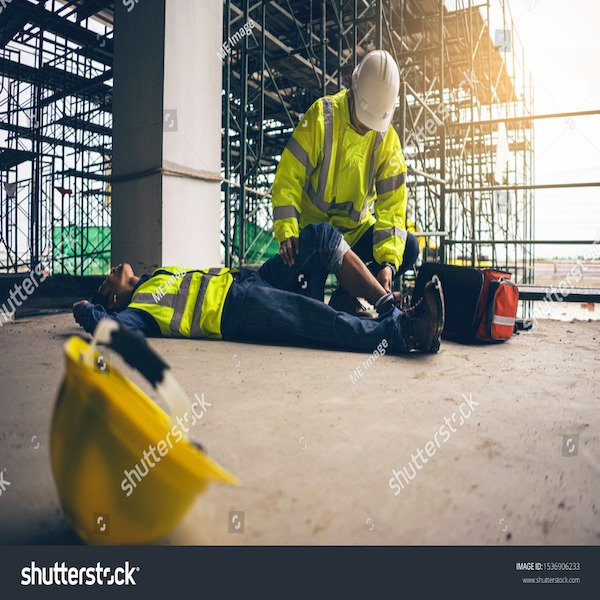helmet: (356, 50, 411, 129)
vest: (276, 106, 412, 266), (130, 263, 234, 338)
